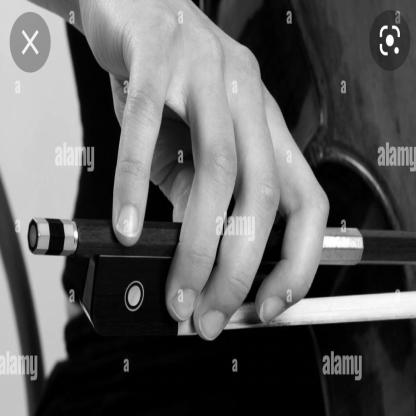good: (115, 37, 330, 354)
